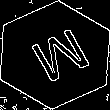M_SE: (19, 22, 91, 88)
